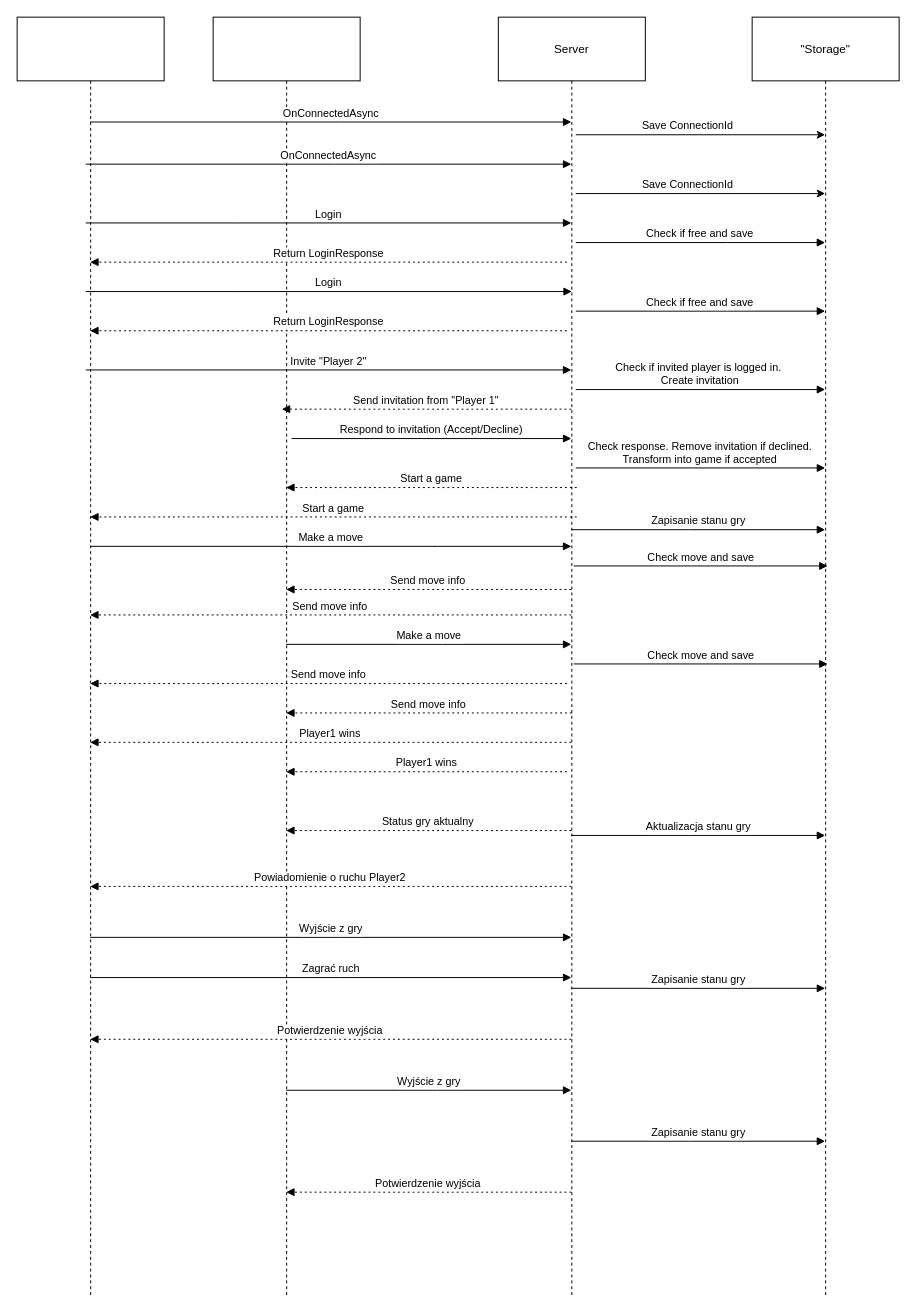
Image size: 916x1312. Some labels were removed from this diagram. The box of each missing label's shape, as (x1, y1, x2, y2) in pixels:
Player 1: (16, 16, 164, 1295)
Player 2: (212, 16, 360, 1295)
